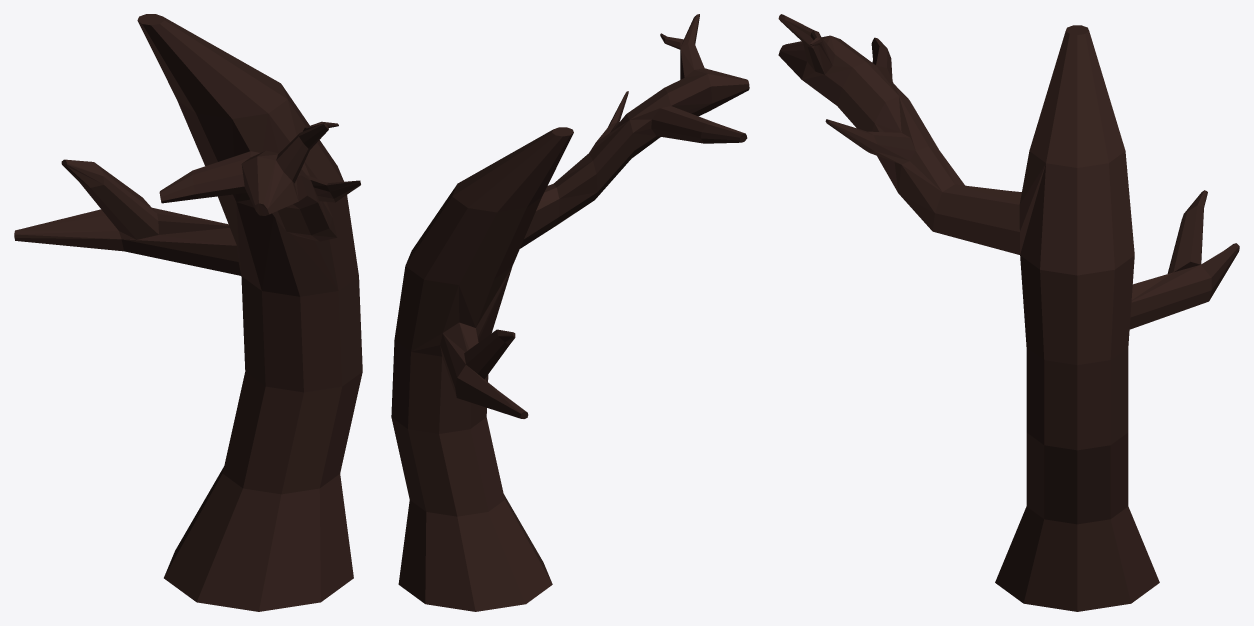
The model's file is Rotten tree.fbx.
3 views of the same model, side by side, from view 1: azimuth 30°, elevation 25°; view 2: azimuth 150°, elevation 25°; view 3: azimuth 270°, elevation 25° (orthographic). The views are drawn at different scales.
Parts seen in each view (by area): view 1: Cylinder001; view 2: Cylinder001; view 3: Cylinder001.
Boxes of the visible parts, <box> form: Cylinder001: <box>14,14,362,611</box>; Cylinder001: <box>391,14,749,611</box>; Cylinder001: <box>778,14,1239,611</box>.
Bounding box in the file's own units: 136 × 247 × 199.
